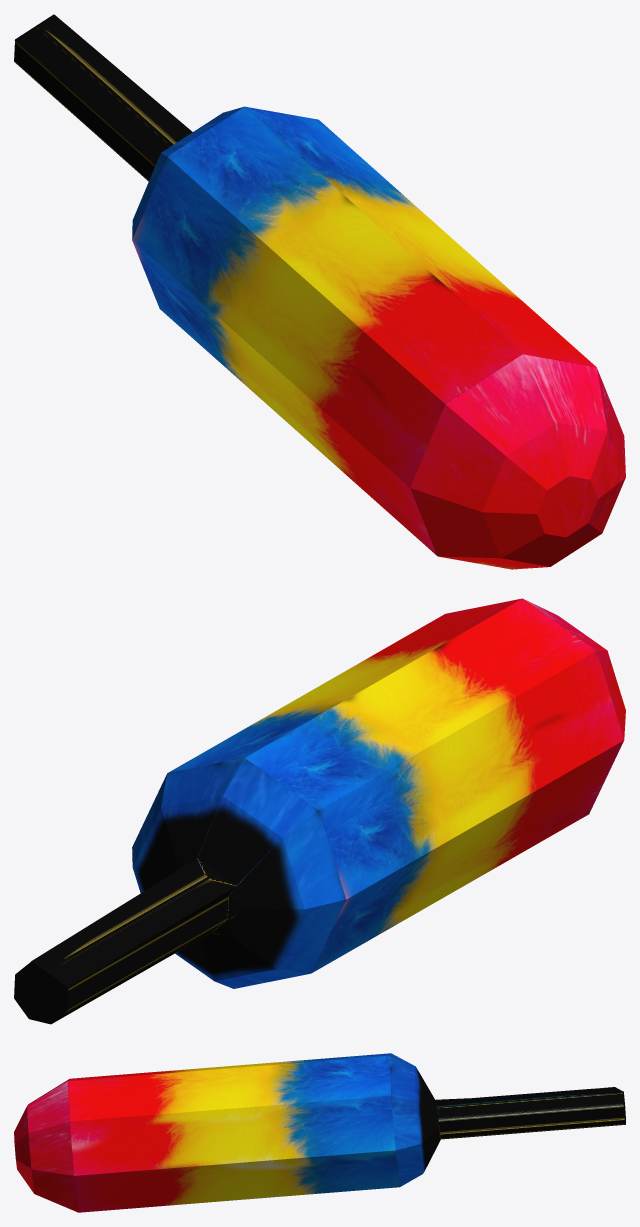
The model's file is Duster.fbx.
3 renders of one model, top to bottom at view 1: azimuth 30°, elevation 25°; view 2: azimuth 150°, elevation 25°; view 3: azimuth 270°, elevation 25°, orthographic. The views are drawn at different scales.
Parts seen in each view (by area): view 1: Cylinder; view 2: Cylinder; view 3: Cylinder.
Part boxes in pixels (bbox=[...]): Cylinder: bbox=[14, 14, 625, 569]; Cylinder: bbox=[14, 598, 625, 1024]; Cylinder: bbox=[14, 1053, 625, 1212].
Size of the model in its own units: 52 by 62.03 by 223.
